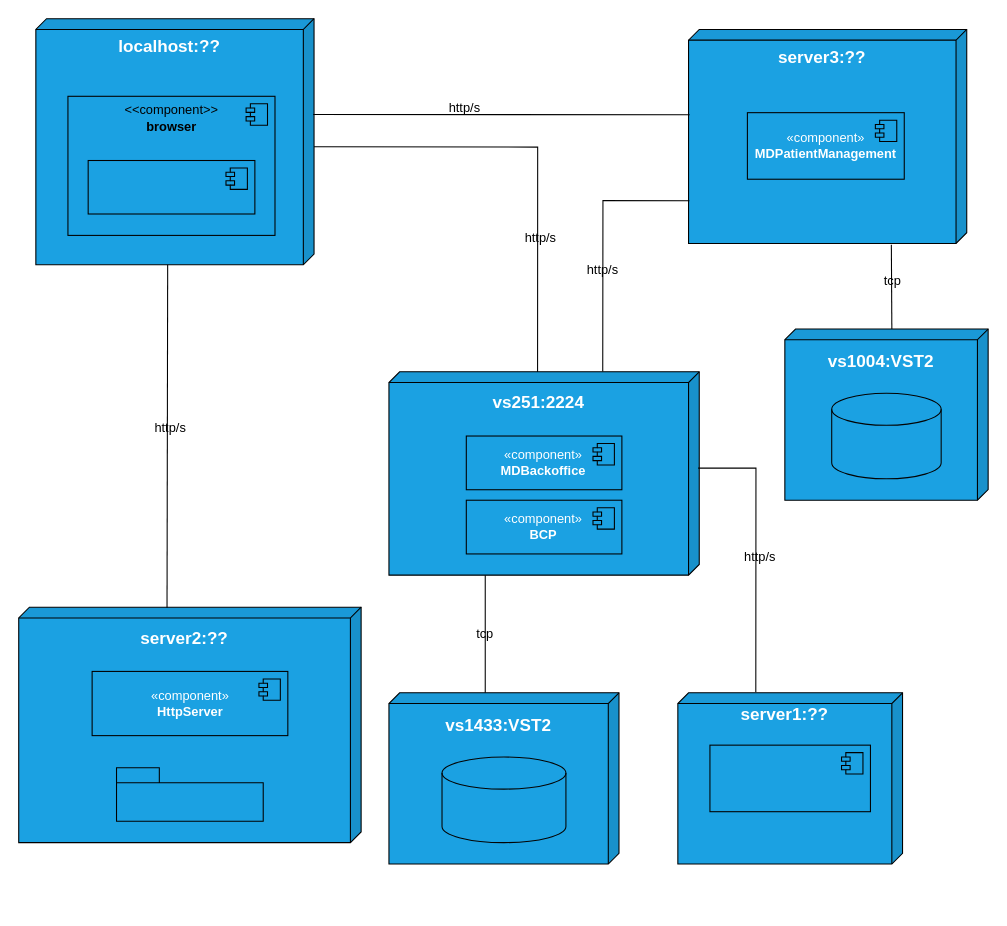
Image size: 1007x926. Some labels were removed from this diagram. The centre of each missing label's shape, as x and y in pixels:
"<<Database>> MongoDB" goes at [886,435].
"<<Database>> MySQL" goes at [503,799].
"Visualization" goes at [189,794].
"«component» Planning" goes at [789,778].
"«component» UI" goes at [171,186].
